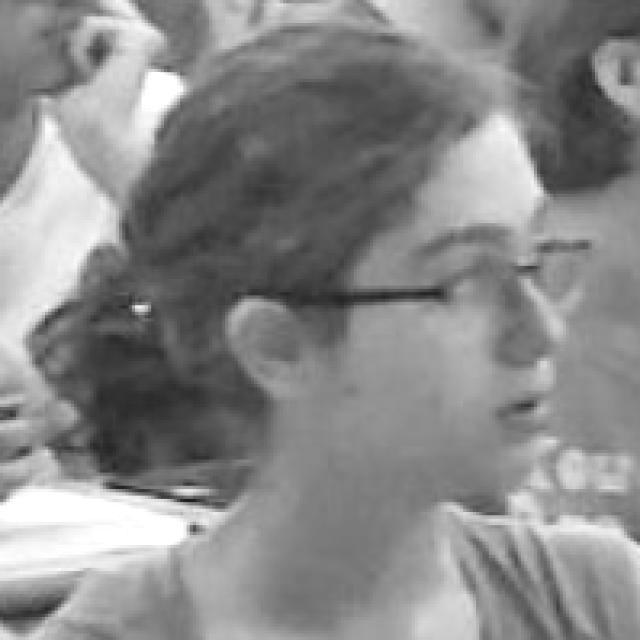Looking forward: (270, 98, 572, 501)
